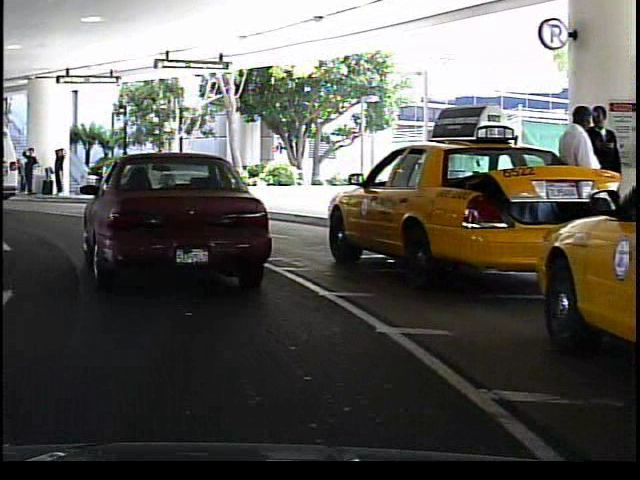person: (549, 103, 603, 265), (584, 100, 625, 254), (18, 142, 40, 202), (109, 147, 134, 194), (48, 142, 65, 200)
